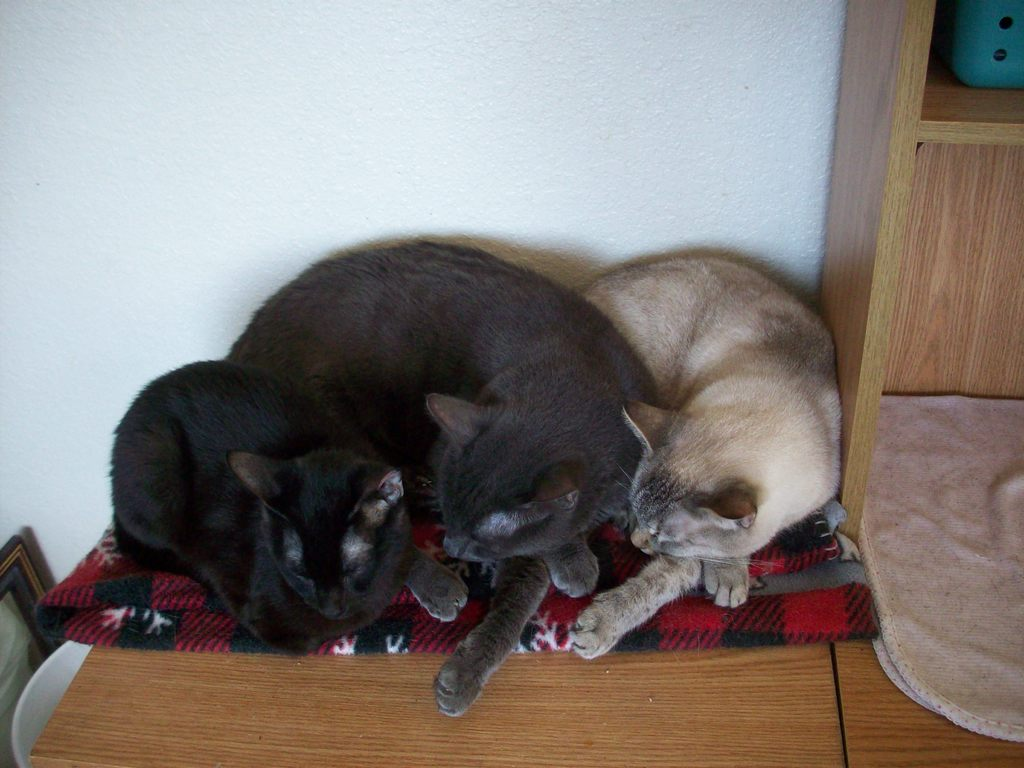cat: (227, 214, 634, 622), (100, 330, 435, 680), (585, 241, 870, 593)
